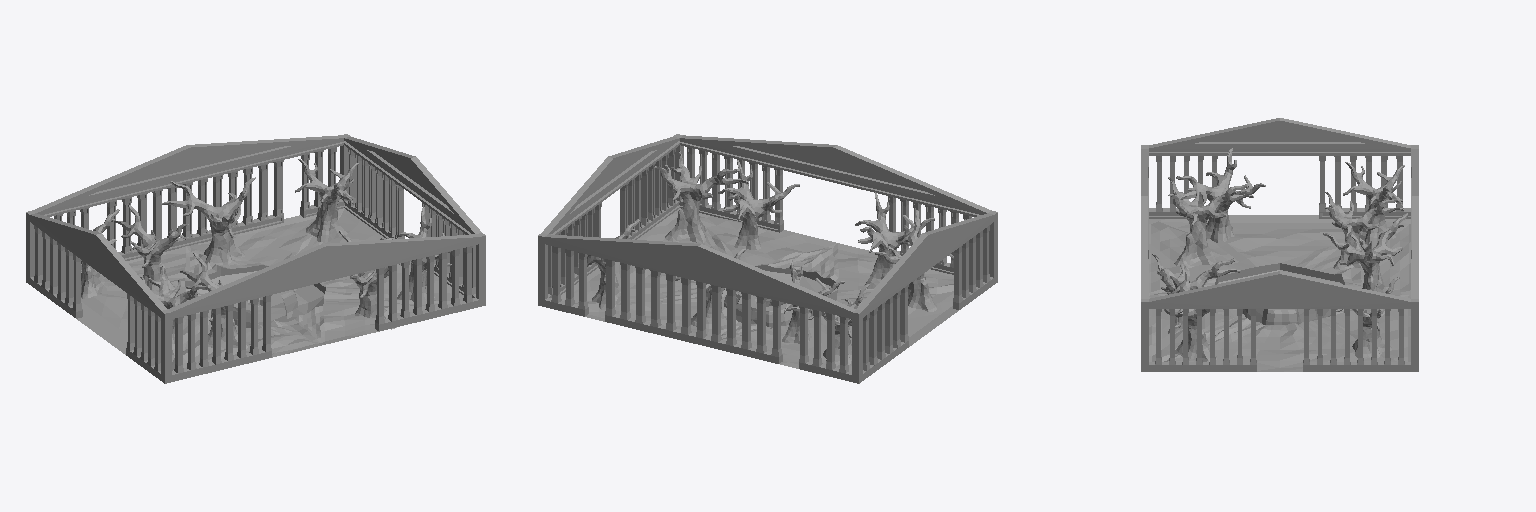
The model's file is SkullAltar.obj.
3 views of the same model, side by side, from view 1: azimuth 30°, elevation 25°; view 2: azimuth 150°, elevation 25°; view 3: azimuth 270°, elevation 25° (orthographic).
Parts seen in each view (by area): view 1: Cube.002_Cube.003, deadTree.002_Plane, deadTree_Plane, deadTree.006_Plane, deadTree.003_Plane, Plane_Plane.001, deadTree.004_Plane, deadTree.005_Plane, deadTree.001_Plane, deadTree.007_Plane; view 2: Cube.002_Cube.003, deadTree.007_Plane, deadTree.003_Plane, deadTree.004_Plane, deadTree.005_Plane, deadTree.006_Plane, deadTree_Plane, Plane_Plane.001, deadTree.001_Plane, deadTree.002_Plane; view 3: Cube.002_Cube.003, deadTree.004_Plane, deadTree.005_Plane, deadTree.002_Plane, deadTree.001_Plane, deadTree.006_Plane, deadTree.007_Plane, deadTree.003_Plane, Plane_Plane.001, deadTree_Plane.
Boxes of the visible parts, <box> form: Cube.002_Cube.003: <box>26,134,485,383</box>; deadTree.002_Plane: <box>161,177,255,266</box>; deadTree_Plane: <box>295,159,358,242</box>; deadTree.006_Plane: <box>115,205,188,290</box>; deadTree.003_Plane: <box>339,230,400,329</box>; Plane_Plane.001: <box>233,290,297,327</box>; deadTree.004_Plane: <box>180,253,247,349</box>; deadTree.005_Plane: <box>140,264,210,354</box>; deadTree.001_Plane: <box>81,209,119,298</box>; deadTree.007_Plane: <box>380,207,451,304</box>; Cube.002_Cube.003: <box>538,134,997,383</box>; deadTree.007_Plane: <box>654,151,748,242</box>; deadTree.003_Plane: <box>718,160,799,249</box>; deadTree.004_Plane: <box>855,192,934,288</box>; deadTree.005_Plane: <box>875,210,953,311</box>; deadTree.006_Plane: <box>781,257,844,343</box>; deadTree_Plane: <box>578,219,639,309</box>; Plane_Plane.001: <box>724,291,808,326</box>; deadTree.001_Plane: <box>787,284,869,365</box>; deadTree.002_Plane: <box>675,248,746,335</box>; Cube.002_Cube.003: <box>1141,118,1418,371</box>; deadTree.004_Plane: <box>1168,177,1253,267</box>; deadTree.005_Plane: <box>1176,148,1265,243</box>; deadTree.002_Plane: <box>1323,213,1408,292</box>; deadTree.001_Plane: <box>1343,162,1404,244</box>; deadTree.006_Plane: <box>1325,192,1403,270</box>; deadTree.007_Plane: <box>1164,260,1216,361</box>; deadTree.003_Plane: <box>1152,254,1239,333</box>; Plane_Plane.001: <box>1243,309,1317,324</box>; deadTree_Plane: <box>1336,277,1399,357</box>.
Bounding box in the file's own units: 48 × 17.2 × 36.